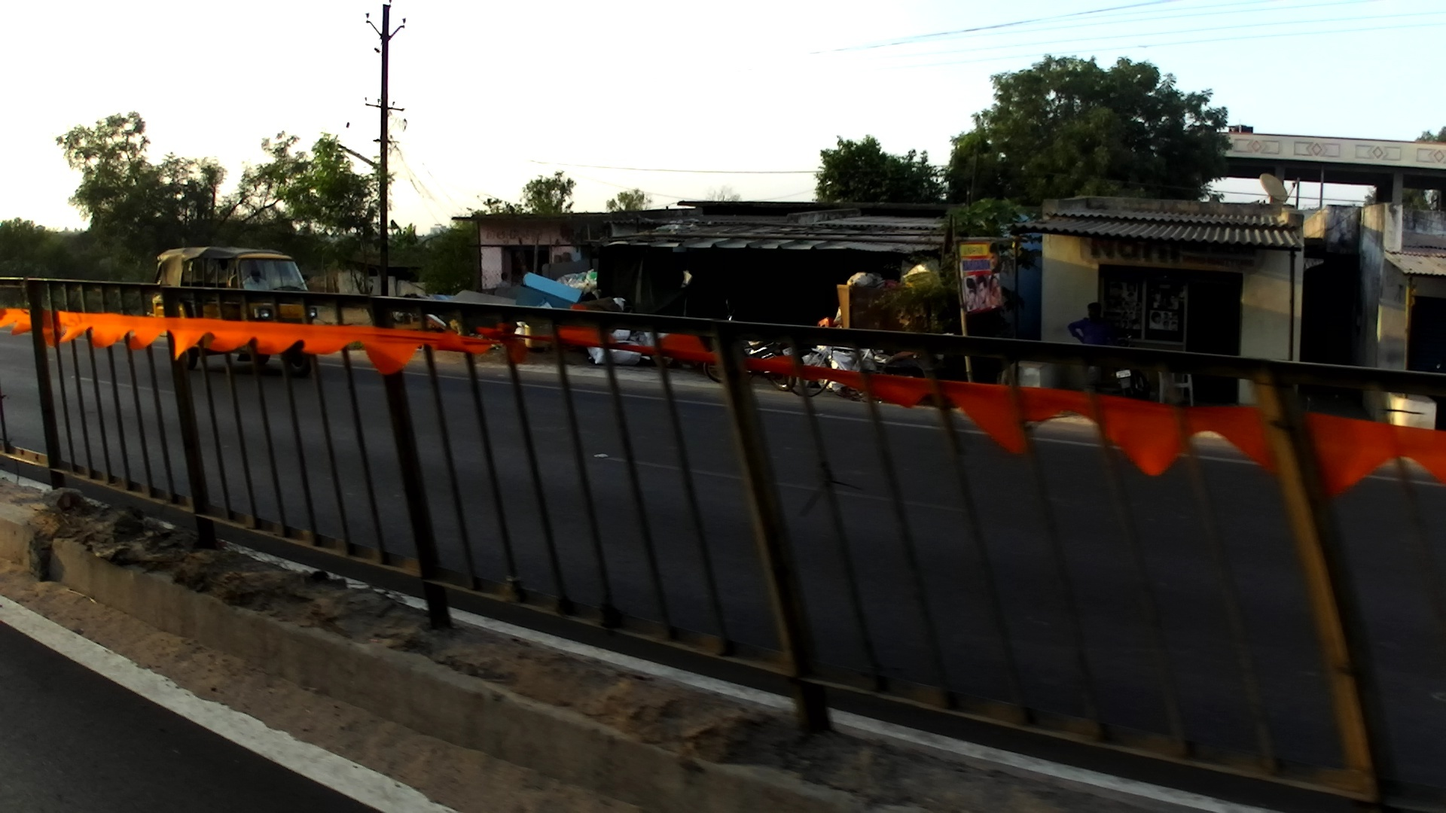autorickshaw: (149, 244, 310, 327)
person: (1071, 301, 1116, 357)
